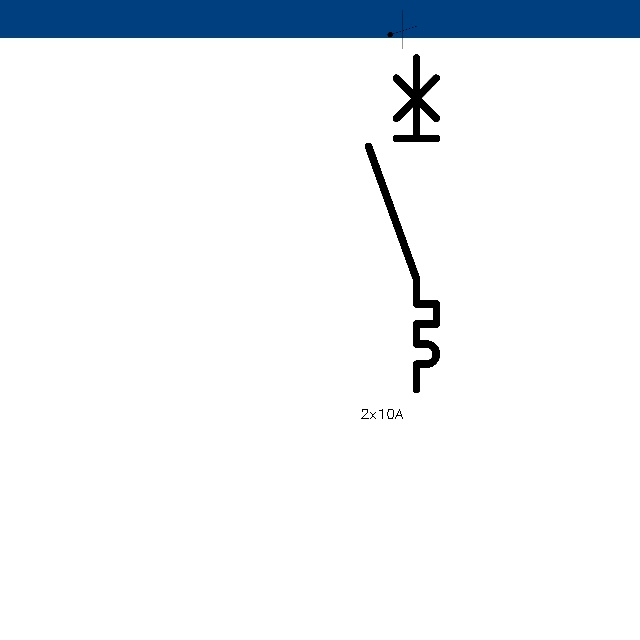interruptor_termomagnetico: (360, 49, 445, 397)
